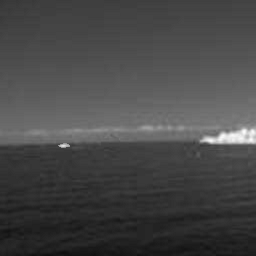Target: (58, 143, 71, 150)
